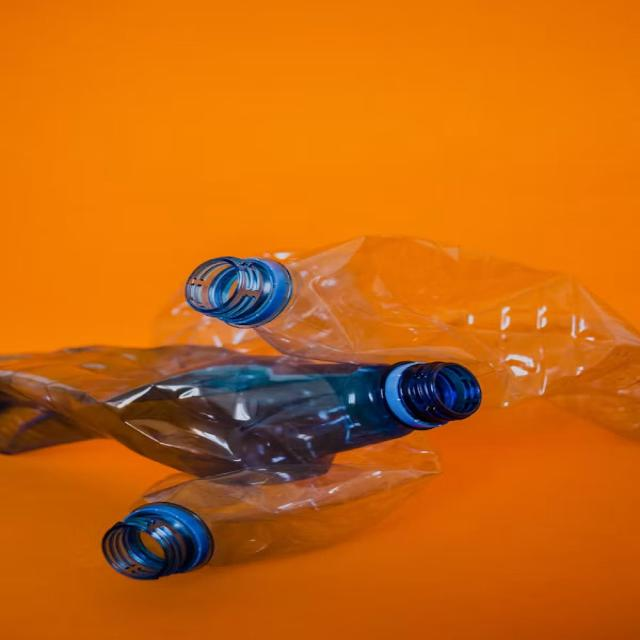Bottle: (171, 237, 639, 406), (0, 346, 481, 476), (106, 355, 481, 476), (103, 451, 439, 579)
